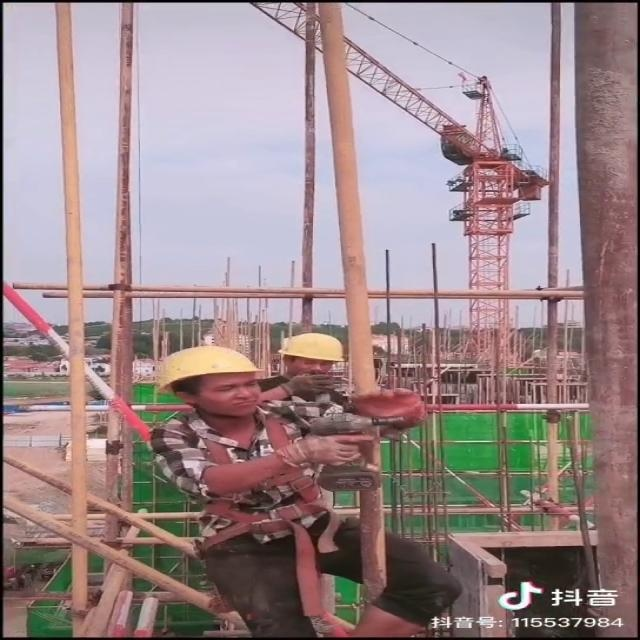Arnes_seguridad: (159, 406, 341, 553)
